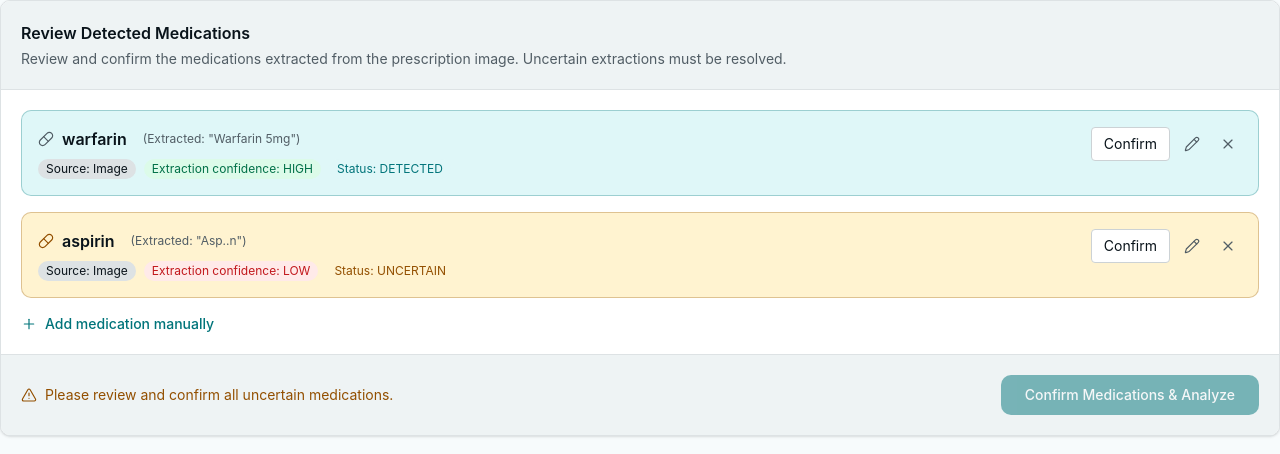
Test: MedicationConfirmationPanel › TEST 6: Candidate can be removed
This screenshot has width=1280, height=454.
Click the button titled "Remove" at [1228, 144], box [1214, 130, 1242, 158]
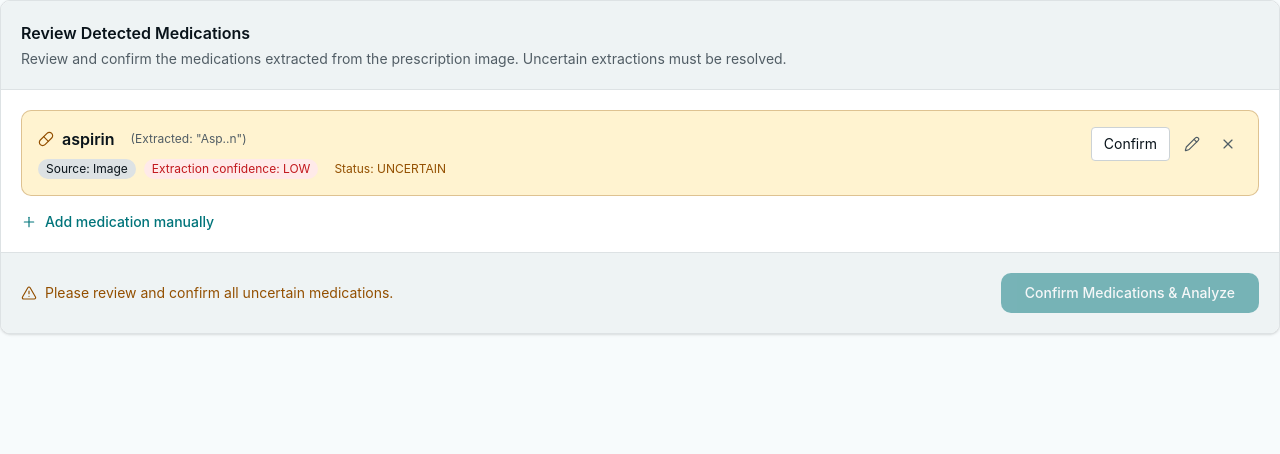
Expected: the text "Status: DETECTED" is gone
